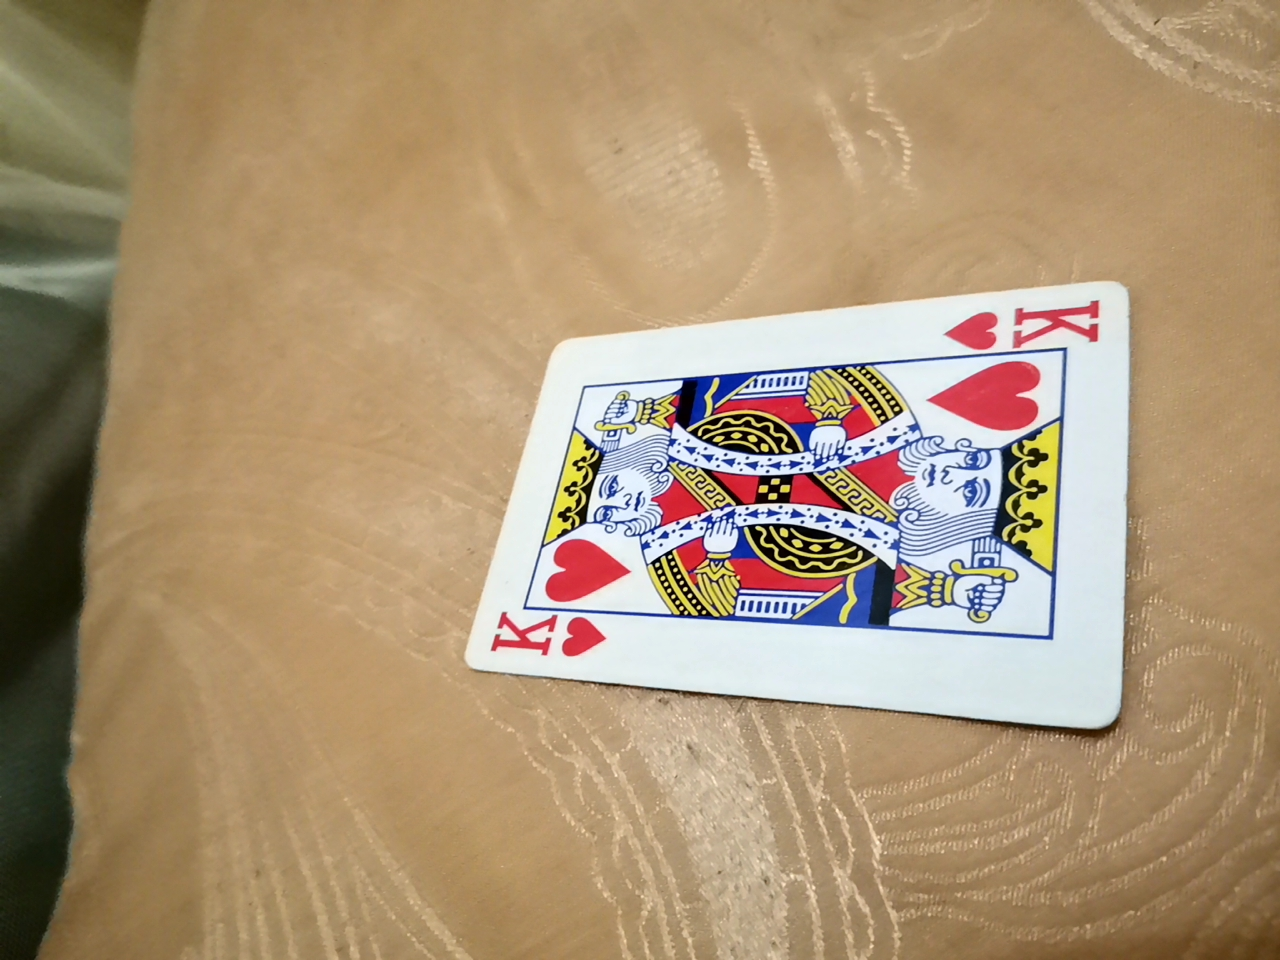hx k: (447, 286, 1137, 730)
